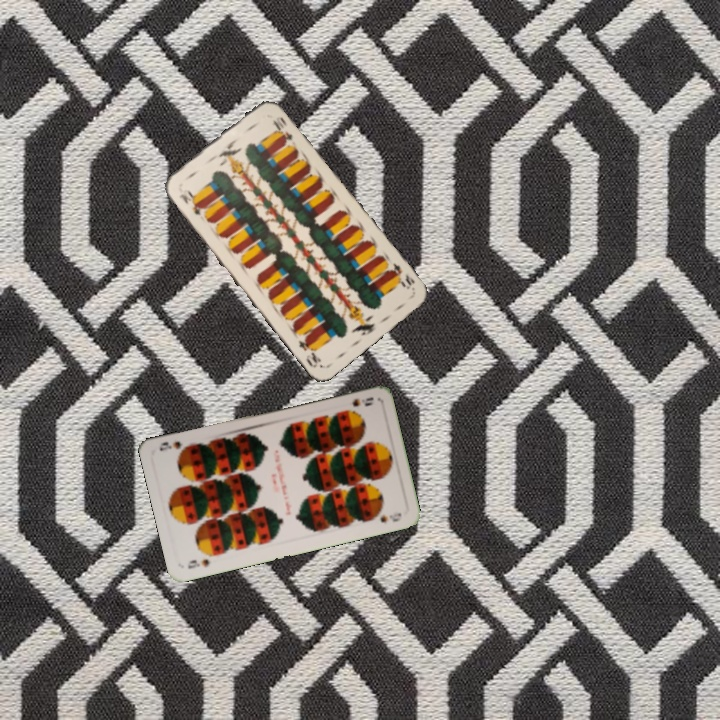E10: (383, 259, 417, 292), (175, 187, 204, 218)
S9: (348, 393, 376, 409), (184, 555, 212, 571)
